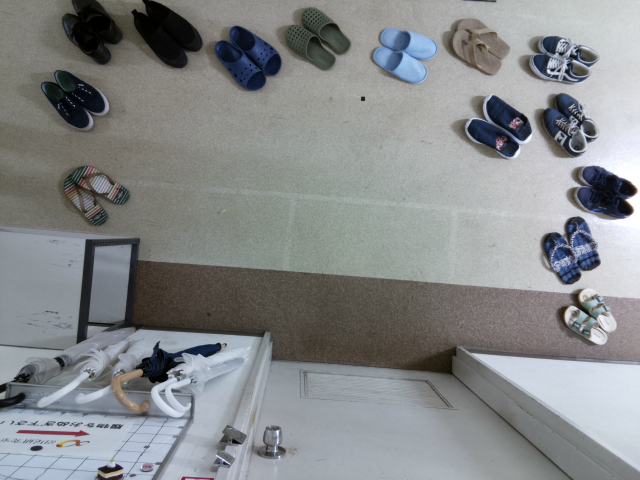Copy of Copy of Copy of Copy of Copy of Copy of Copy of Copy of Copy of Copy of: (130, 10, 188, 67), (141, 1, 202, 50), (69, 1, 123, 43)
Copy of Copy of Copy of Copy of Copy of Copy of Copy of Copy of Copy of sandal: (563, 305, 608, 346)
Copy of Copy of Copy of Copy of Copy of Copy of Copy of Copy of Copy of shoes: (62, 11, 110, 65)
Copy of Copy of Copy of Copy of Copy of Copy of Copy of Copy of sandal: (578, 286, 616, 333)
Copy of Copy of Copy of Copy of Copy of Copy of Copy of Copy of shoes: (52, 68, 110, 116)
Copy of Copy of Copy of Copy of Copy of Copy of Copy of sandal: (541, 232, 581, 283)
Copy of Copy of Copy of Copy of Copy of Copy of Copy of shoes: (40, 78, 93, 132)
Copy of Copy of Copy of Copy of Copy of Copy of sandal: (565, 216, 601, 271)
Copy of Copy of Copy of Copy of Copy of Copy of shoes: (573, 186, 635, 219)
Copy of Copy of Copy of Copy of Copy of sandal: (456, 18, 510, 58)
Copy of Copy of Copy of Copy of Copy of shoes: (538, 34, 601, 67), (575, 166, 637, 199)
Copy of Copy of Copy of Copy of sandal: (452, 29, 501, 76)
Copy of Copy of Copy of Copy of shoes: (527, 51, 590, 82)
Copy of Copy of Copy of shoes: (552, 92, 598, 142)
Copy of Copy of Copy of slipper: (380, 28, 437, 60)
Copy of Copy of shoes: (539, 105, 587, 156)
Copy of Copy of slipper: (370, 45, 427, 82)
Copy of sandal: (71, 165, 131, 202)
Copy of shoes: (482, 94, 533, 144)
Copy of slipper: (228, 25, 281, 77)
sandal: (63, 175, 108, 225)
shoes: (464, 117, 520, 160)
slipper: (213, 38, 266, 90), (282, 23, 334, 70), (302, 6, 349, 56)
